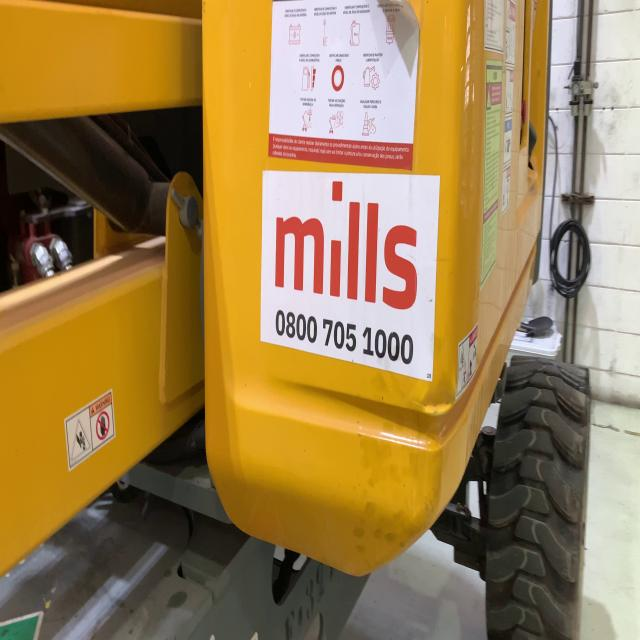Adesivos: (257, 167, 442, 386)
